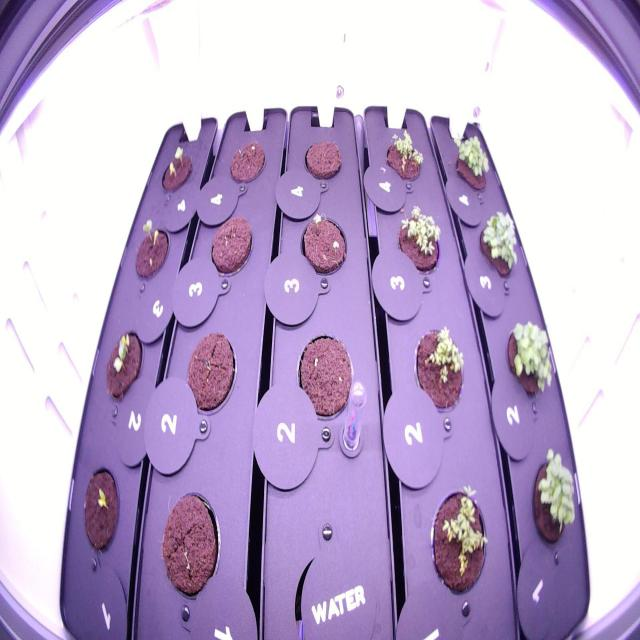germination: (422, 474, 493, 604), (524, 439, 582, 560), (407, 319, 472, 420), (499, 310, 562, 413), (78, 458, 125, 562), (390, 198, 446, 282), (472, 200, 526, 286), (295, 207, 353, 286), (99, 318, 147, 408), (449, 126, 497, 202), (129, 211, 174, 288), (377, 124, 427, 190), (156, 137, 196, 200)
pod: (155, 484, 225, 609), (293, 327, 357, 429), (180, 324, 241, 422), (204, 210, 258, 286), (300, 133, 349, 188), (226, 136, 269, 190)
